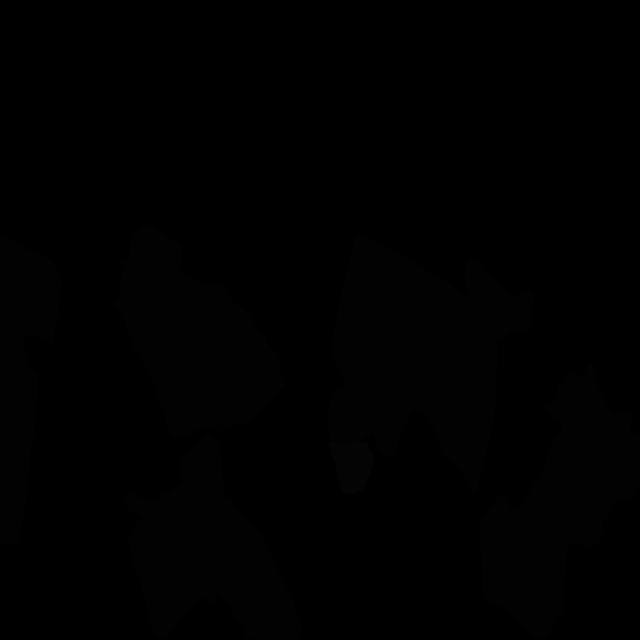cardboard: (327, 233, 499, 496), (479, 362, 640, 639), (108, 225, 284, 439), (128, 432, 228, 640), (0, 234, 62, 544), (204, 497, 302, 640), (464, 257, 534, 340), (126, 492, 152, 518)
soft_plastic: (329, 441, 374, 495)
